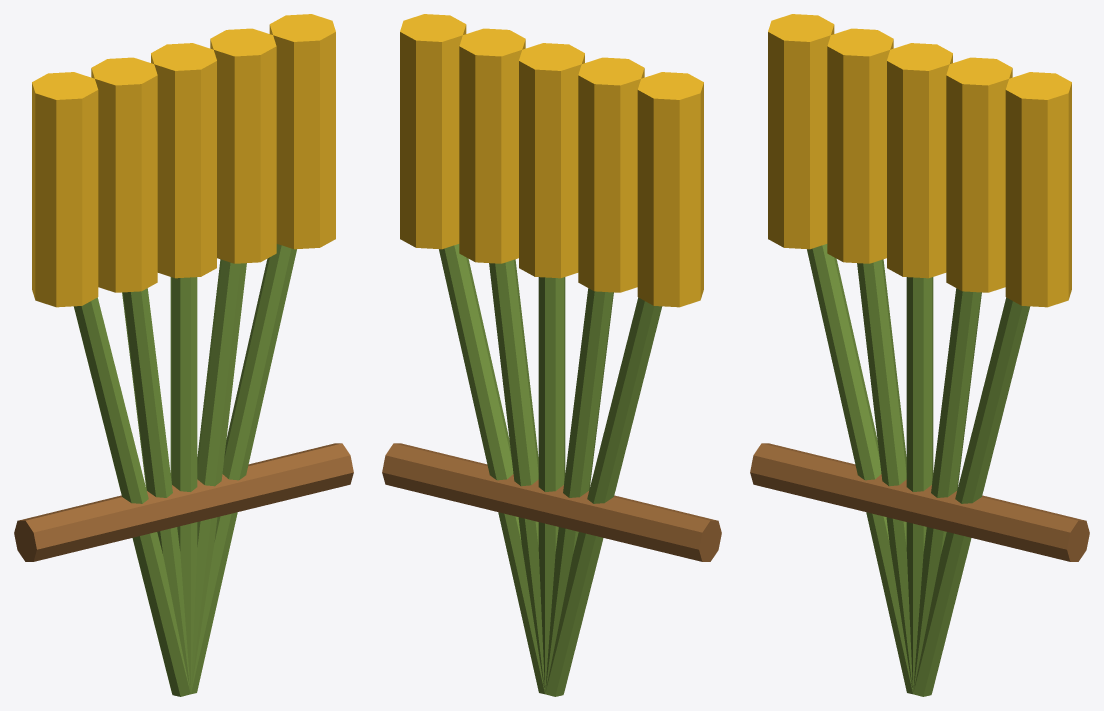
File: harvest_drop_wheat.glb
3 renders of one model, left to right at view 1: azimuth 30°, elevation 25°; view 2: azimuth 150°, elevation 25°; view 3: azimuth 330°, elevation 25°, orthographic.
Visible parts, largest first — view 1: FTF_Harvest_Drop_Wheat_Sheaf_Mesh; view 2: FTF_Harvest_Drop_Wheat_Sheaf_Mesh; view 3: FTF_Harvest_Drop_Wheat_Sheaf_Mesh.
Part boxes in pixels (<box>): FTF_Harvest_Drop_Wheat_Sheaf_Mesh: <box>14,14,353,696</box>; FTF_Harvest_Drop_Wheat_Sheaf_Mesh: <box>382,14,721,696</box>; FTF_Harvest_Drop_Wheat_Sheaf_Mesh: <box>750,14,1089,696</box>.
Size of the model in its own units: 0.32 by 0.6129 by 0.06.
